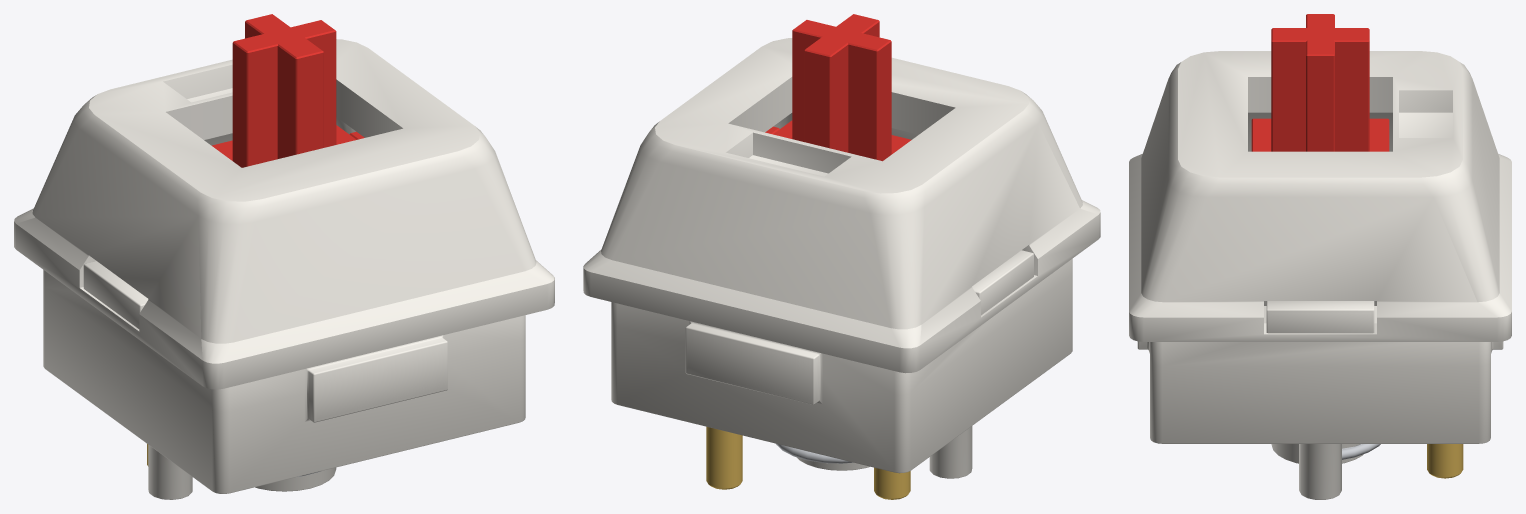
File: switch_mx.glb
3 renders of one model, left to right at view 1: azimuth 30°, elevation 25°; view 2: azimuth 150°, elevation 25°; view 3: azimuth 270°, elevation 25°, orthographic. The views are drawn at different scales.
Parts seen in each view (by area): view 1: top, bottom3, bottom5, stem_silent, stem_clicky; view 2: top, bottom3, bottom5, stem_clicky, stem_silent, pins; view 3: top, bottom3, stem_clicky, bottom5, stem_silent, pins.
Boxes of the visible parts, <box> form: top: <box>14,39,554,389</box>; bottom3: <box>43,261,525,491</box>; bottom5: <box>43,261,525,499</box>; stem_silent: <box>212,14,363,167</box>; stem_clicky: <box>212,15,364,167</box>; top: <box>583,38,1100,373</box>; bottom3: <box>611,251,1072,470</box>; bottom5: <box>611,250,1072,478</box>; stem_clicky: <box>775,14,910,161</box>; stem_silent: <box>765,14,911,160</box>; pins: <box>706,426,910,499</box>; top: <box>1129,51,1511,341</box>; bottom3: <box>1140,301,1500,459</box>; stem_clicky: <box>1254,14,1386,151</box>; bottom5: <box>1137,301,1503,499</box>; stem_silent: <box>1251,14,1389,151</box>; pins: <box>1427,444,1463,478</box>.
Size of the model in its own units: 0.0156 by 0.0185 by 0.0156.
